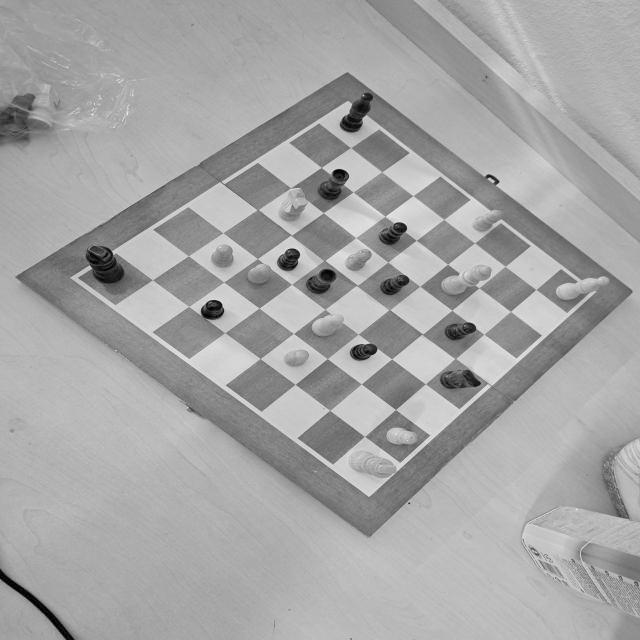chess-table-corners: (576, 282, 603, 302), (334, 98, 360, 113), (67, 270, 89, 287), (358, 483, 380, 498)
